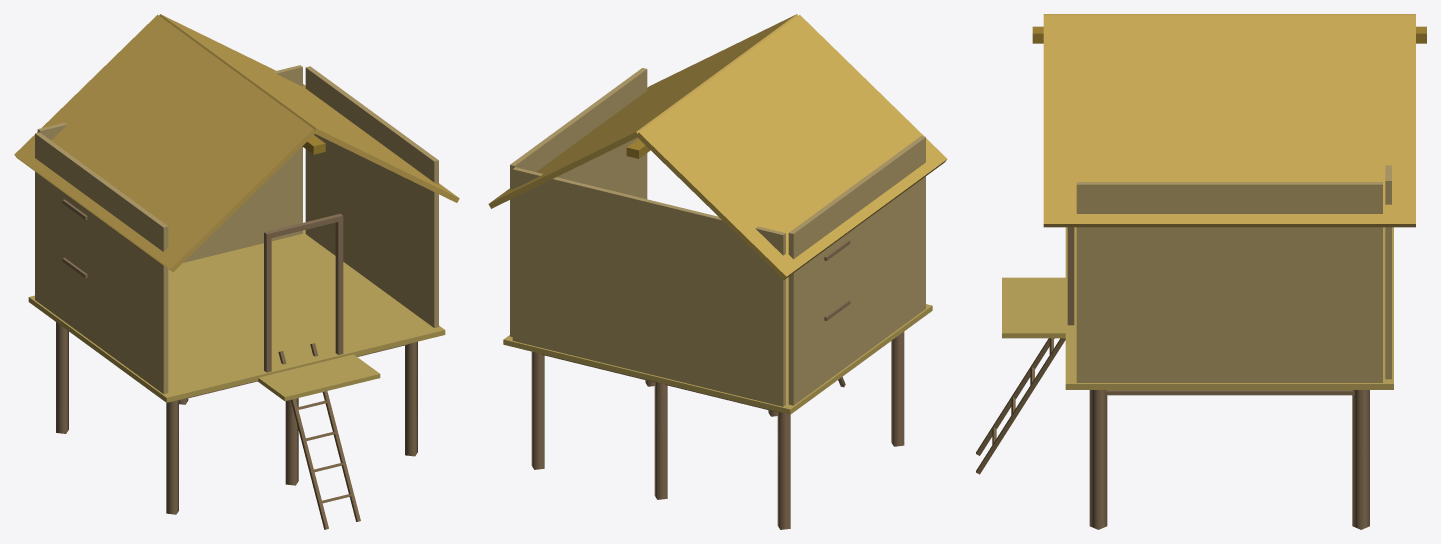
File: village-hut.glb
3 views of the same model, side by side, from view 1: azimuth 30°, elevation 25°; view 2: azimuth 150°, elevation 25°; view 3: azimuth 270°, elevation 25° (orthographic). The views are drawn at different scales.
Parts seen in each view (by area): view 1: Mesh_RoofLeft, Mesh_Floor, Mesh_LeftWall, Mesh_RightWall, Mesh_RoofRight, Mesh_BackWall, Mesh_PorchFloor, Mesh_StiltFrontLeft, Mesh_StiltFrontRight, Mesh_StiltBackLeft, Mesh_DoorFrameRight, Mesh_StiltFrontCenter (+4 smaller); view 2: Mesh_BackWall, Mesh_RoofLeft, Mesh_LeftWall, Mesh_RoofRight, Mesh_RightWall, Mesh_Floor, Mesh_StiltBackLeft, Mesh_StiltBackCenter, Mesh_StiltBackRight, Mesh_StiltFrontLeft; view 3: Mesh_RoofRight, Mesh_RightWall, Mesh_Floor, Mesh_PorchFloor, Mesh_StiltFrontRight, Mesh_StiltBackRight, Mesh_BraceRight, Mesh_BackWall, Mesh_LadderRailRight, Mesh_DoorFrameRight, Mesh_RoofLeft, Mesh_LadderRailLeft.
Boxes of the visible parts, x1,y1,x2,y2 form: Mesh_RoofLeft: (14, 14, 315, 272); Mesh_Floor: (28, 230, 445, 402); Mesh_LeftWall: (35, 132, 168, 393); Mesh_RightWall: (305, 66, 438, 327); Mesh_RoofRight: (159, 14, 459, 202); Mesh_BackWall: (37, 65, 302, 262); Mesh_PorchFloor: (257, 354, 380, 401); Mesh_StiltFrontLeft: (166, 400, 178, 514); Mesh_StiltFrontRight: (405, 341, 417, 456); Mesh_StiltBackLeft: (56, 322, 68, 433); Mesh_DoorFrameRight: (335, 221, 343, 354); Mesh_StiltFrontCenter: (285, 398, 298, 485); Mesh_BackWall: (512, 167, 785, 406); Mesh_RoofLeft: (636, 15, 947, 279); Mesh_LeftWall: (788, 136, 925, 405); Mesh_RoofRight: (488, 14, 797, 208); Mesh_RightWall: (510, 68, 647, 336); Mesh_Floor: (503, 277, 932, 414); Mesh_StiltBackLeft: (777, 412, 790, 529); Mesh_StiltBackCenter: (654, 382, 667, 499); Mesh_StiltBackRight: (531, 351, 544, 469); Mesh_StiltFrontLeft: (891, 332, 904, 446); Mesh_RoofRight: (1043, 15, 1415, 227); Mesh_RightWall: (1076, 182, 1382, 382); Mesh_Floor: (1065, 227, 1393, 389); Mesh_PorchFloor: (1002, 277, 1065, 338); Mesh_StiltFrontRight: (1089, 390, 1107, 529); Mesh_StiltBackRight: (1352, 390, 1369, 529); Mesh_BraceRight: (1105, 390, 1354, 395); Mesh_BackWall: (1385, 165, 1391, 379); Mesh_LadderRailRight: (976, 338, 1065, 474); Mesh_DoorFrameRight: (1067, 227, 1074, 325); Mesh_RoofLeft: (1043, 14, 1415, 15); Mesh_LadderRailLeft: (976, 338, 1054, 455).
Bounding box in the file's own units: 3.64 × 4.53 × 4.12.
